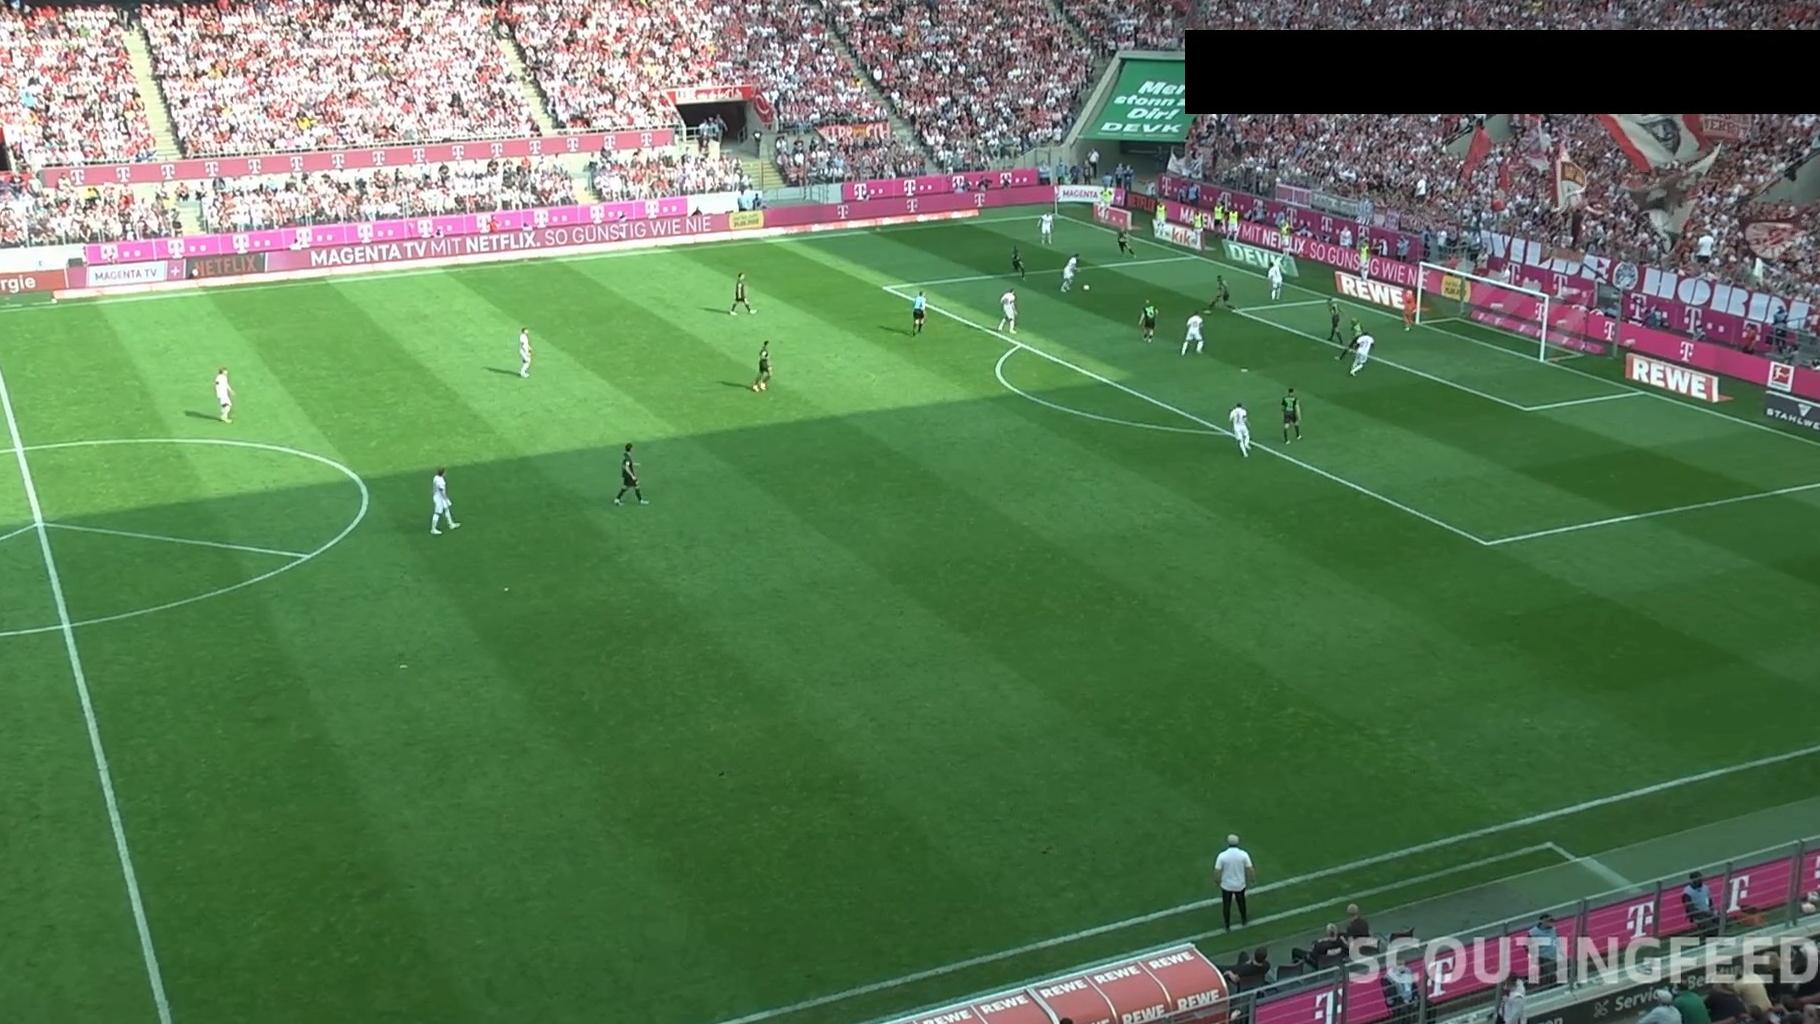ball: (1081, 283, 1091, 291)
